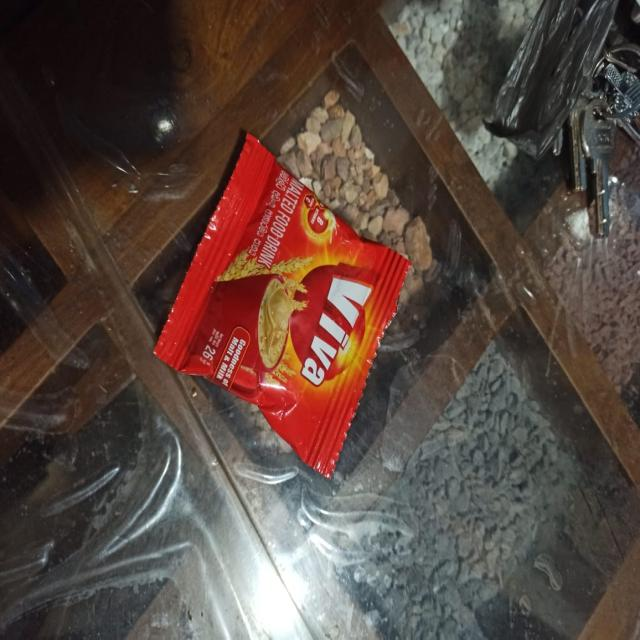Viva Malt: (132, 91, 412, 497)
